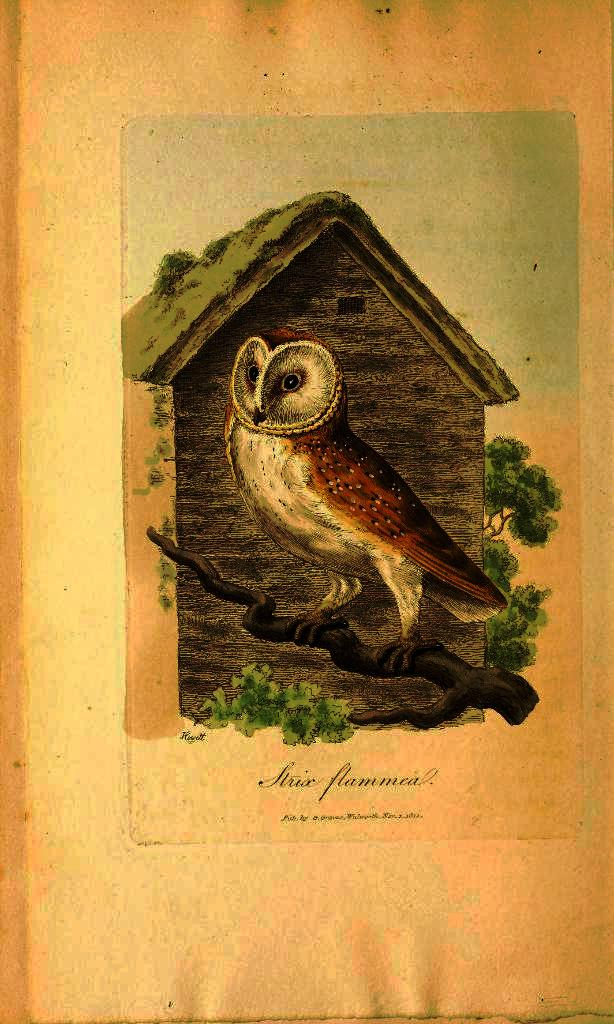Owl: (223, 332, 512, 676)
